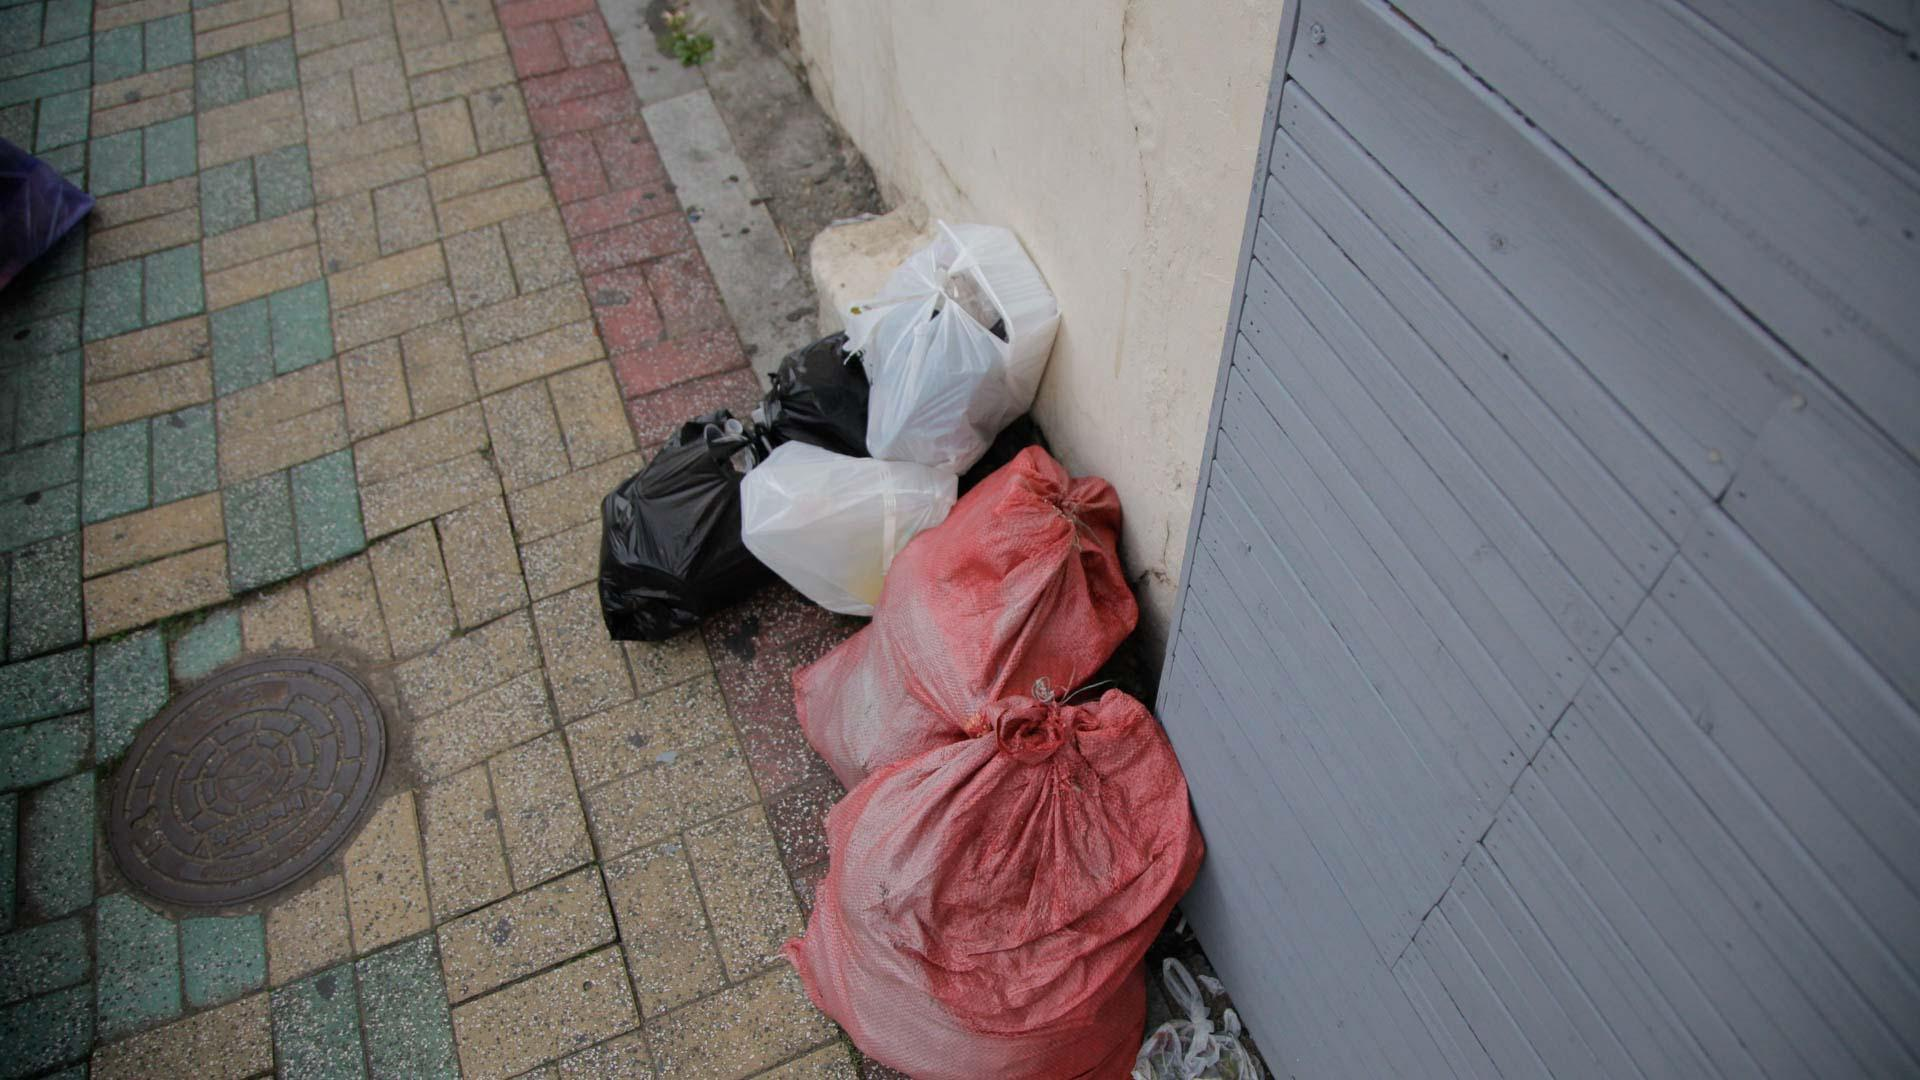black_bag: (583, 404, 791, 646)
white_bag: (833, 207, 1063, 475), (727, 440, 967, 622)
